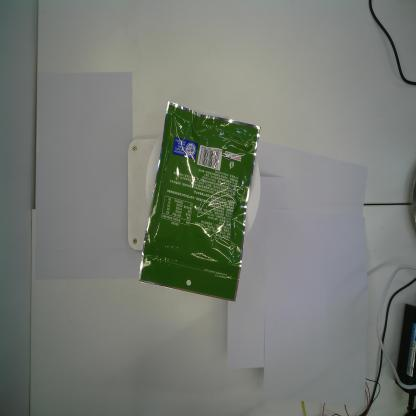Dried Fruit: (137, 98, 262, 304)
